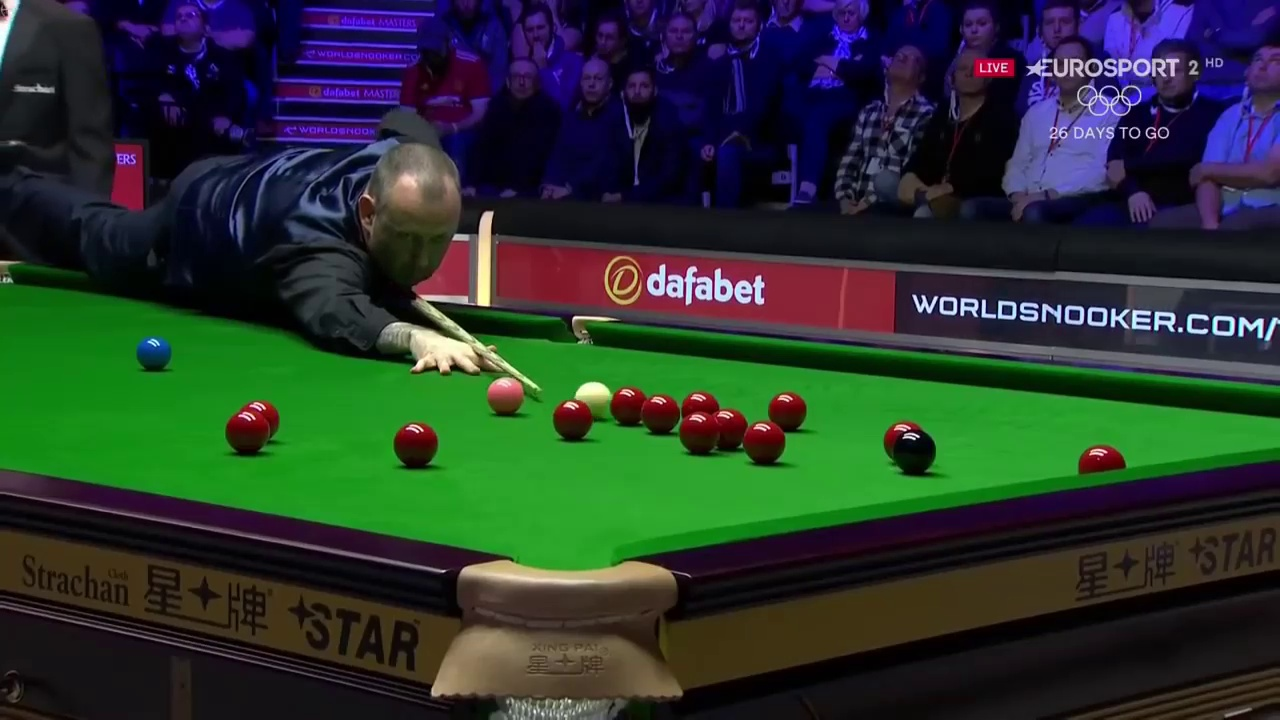ball: (391, 420, 439, 466), (742, 422, 787, 463), (224, 413, 270, 451), (552, 395, 590, 441), (893, 433, 934, 474), (681, 412, 717, 454), (136, 331, 170, 372), (642, 396, 679, 431), (487, 376, 524, 410)
